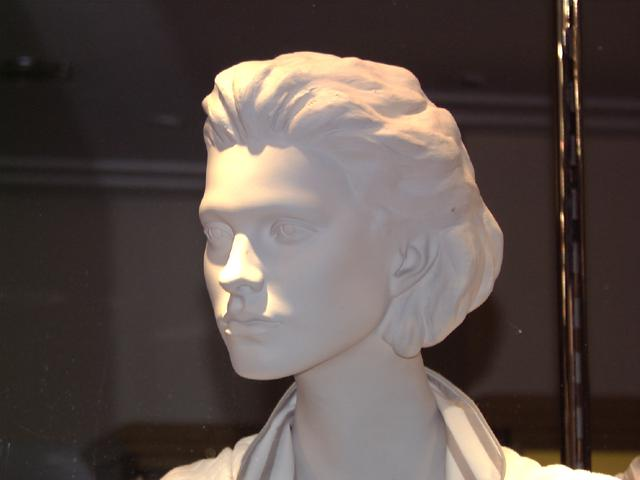Person: (143, 57, 555, 480)
